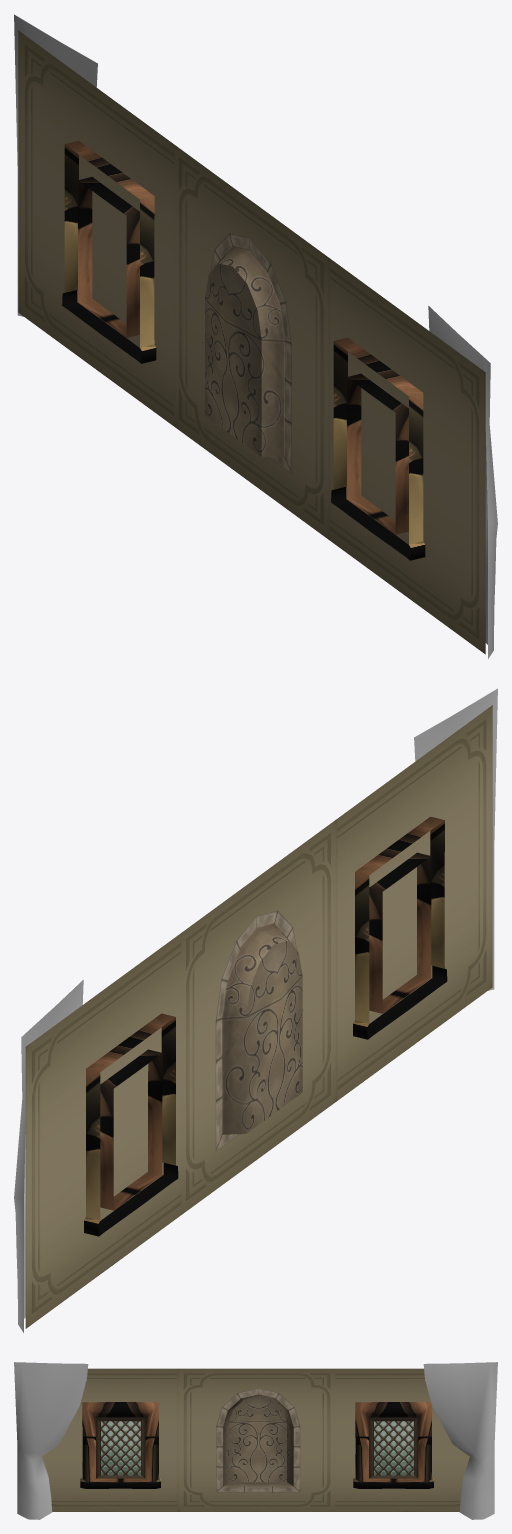
Rendered from IceMaze_Wall04.fbx.
3 views of the same model, one above another, from view 1: azimuth 30°, elevation 25°; view 2: azimuth 150°, elevation 25°; view 3: azimuth 270°, elevation 25° (orthographic). The views are drawn at different scales.
Parts seen in each view (by area): view 1: WallMesh, WindowL, WindowR, DrapeL, DrapeR; view 2: WallMesh, WindowR, WindowL, DrapeR, DrapeL; view 3: WallMesh, DrapeR, DrapeL, WindowL, WindowR.
Part boxes in pixels (x1=…): WallMesh: x1=18, y1=30, x2=485, y2=654; WindowL: x1=331, y1=337, x2=425, y2=560; WindowR: x1=62, y1=141, x2=156, y2=363; DrapeL: x1=428, y1=306, x2=497, y2=658; DrapeR: x1=14, y1=14, x2=97, y2=316; WallMesh: x1=25, y1=705, x2=492, y2=1328; WindowR: x1=84, y1=1013, x2=178, y2=1236; WindowL: x1=353, y1=816, x2=447, y2=1039; DrapeR: x1=14, y1=980, x2=83, y2=1332; DrapeL: x1=414, y1=688, x2=497, y2=990; WallMesh: x1=42, y1=1368, x2=469, y2=1511; DrapeR: x1=423, y1=1362, x2=497, y2=1519; DrapeL: x1=14, y1=1362, x2=88, y2=1519; WindowL: x1=80, y1=1402, x2=160, y2=1488; WindowR: x1=353, y1=1402, x2=433, y2=1488.
Bounding box in the file's own units: 0.9573 × 6.45 × 18.37.
